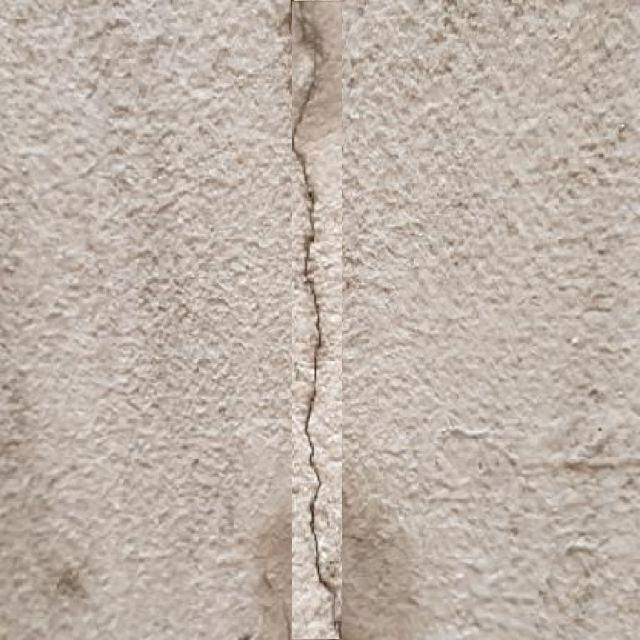vertical crack: (292, 3, 342, 639)
